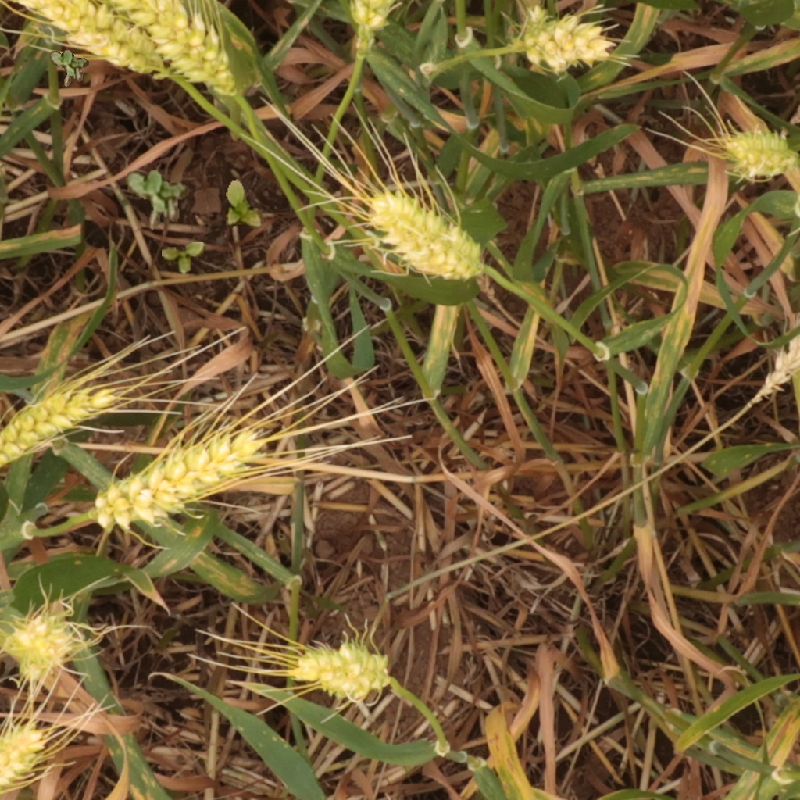spikelet: (81, 416, 272, 537), (88, 1, 249, 98), (359, 179, 487, 279), (5, 1, 169, 79), (1, 370, 116, 467), (285, 630, 401, 708), (508, 3, 619, 77), (1, 600, 85, 683), (718, 118, 800, 180), (1, 711, 55, 800), (337, 1, 410, 36)
weed: (126, 170, 189, 230), (226, 179, 264, 229), (50, 50, 89, 87), (162, 242, 205, 274)
